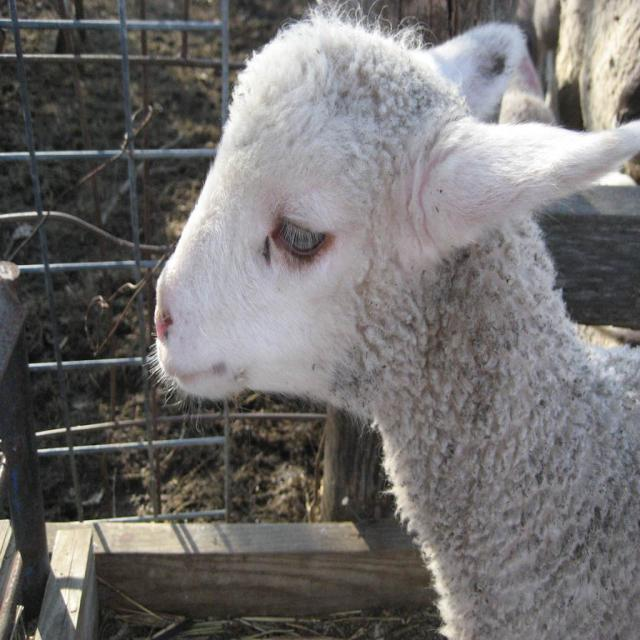Sheep: (134, 0, 639, 623)
